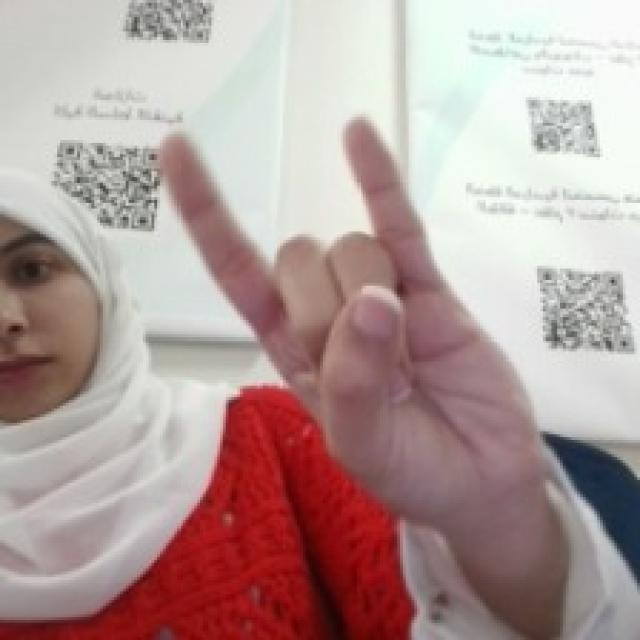No: (151, 106, 540, 491)
